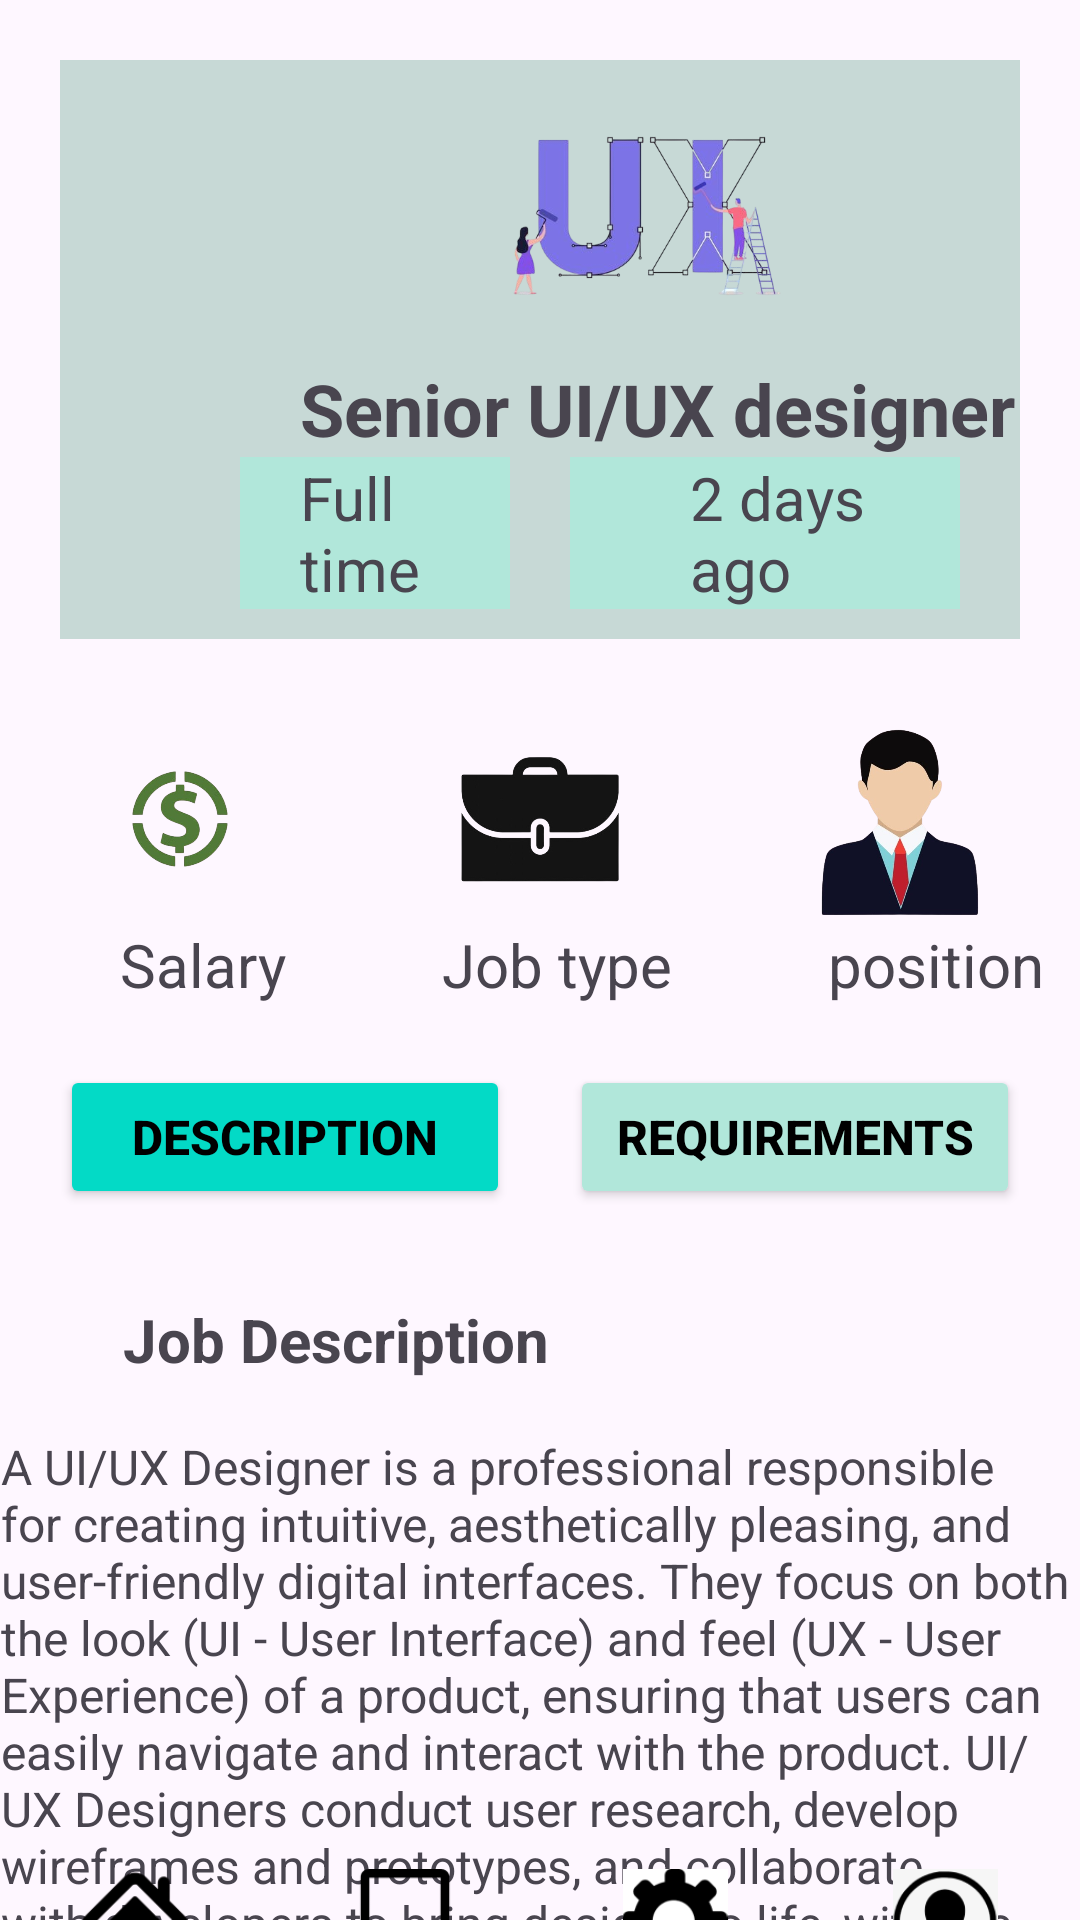

Icon click points for this 1080px x 1920px phone screenshot, format [x,y]:
bag: [540,819]
sal: [180,819]
